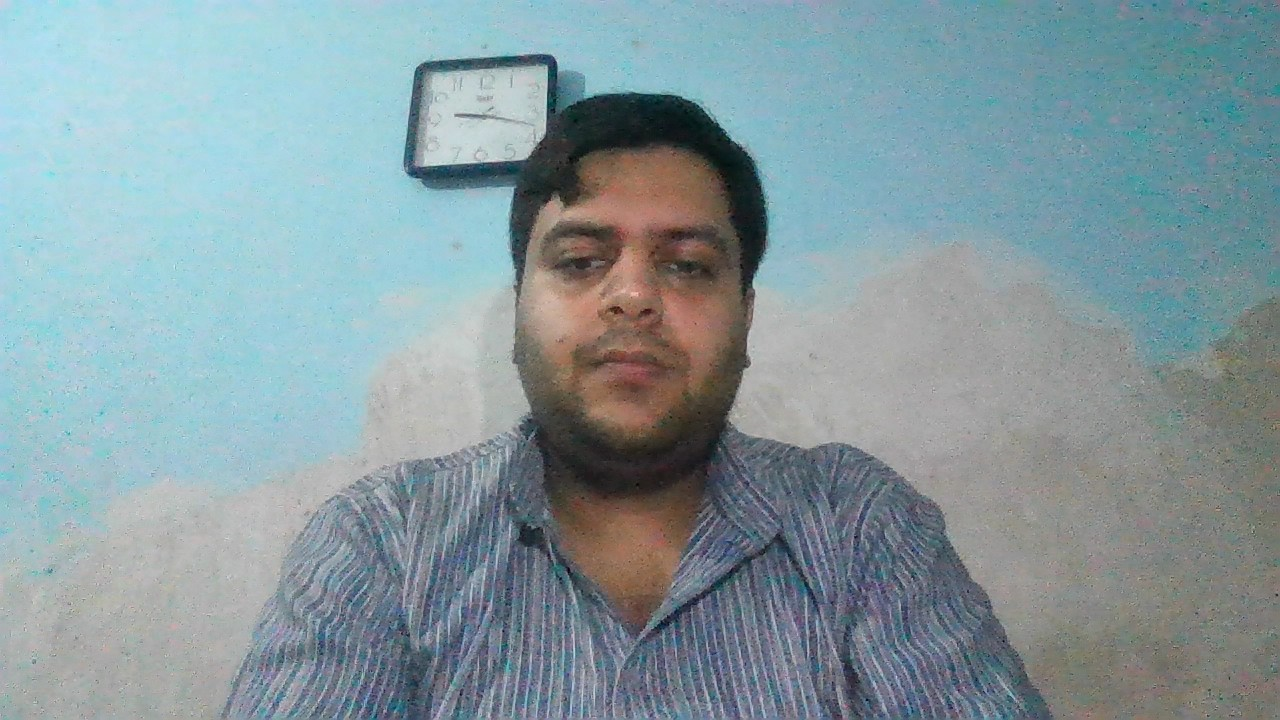No Mask: (511, 286, 755, 475)
